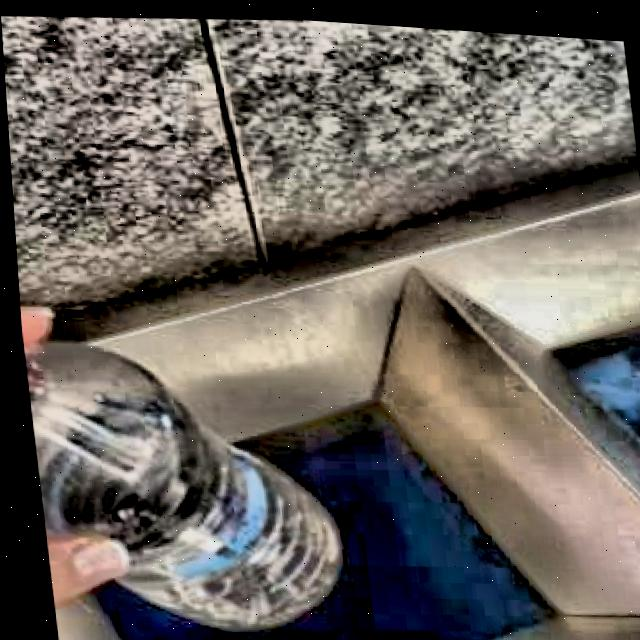plastic: (20, 345, 330, 628)
